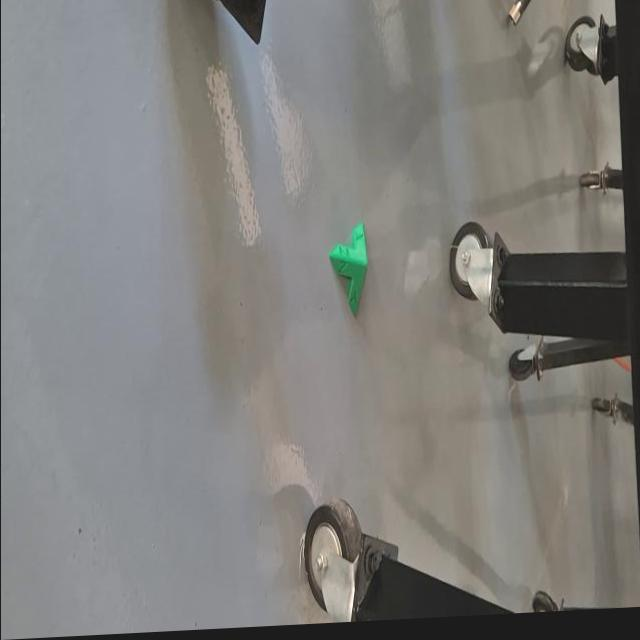eje: (327, 219, 368, 321)
